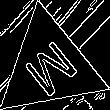M_SE: (17, 32, 82, 101)
